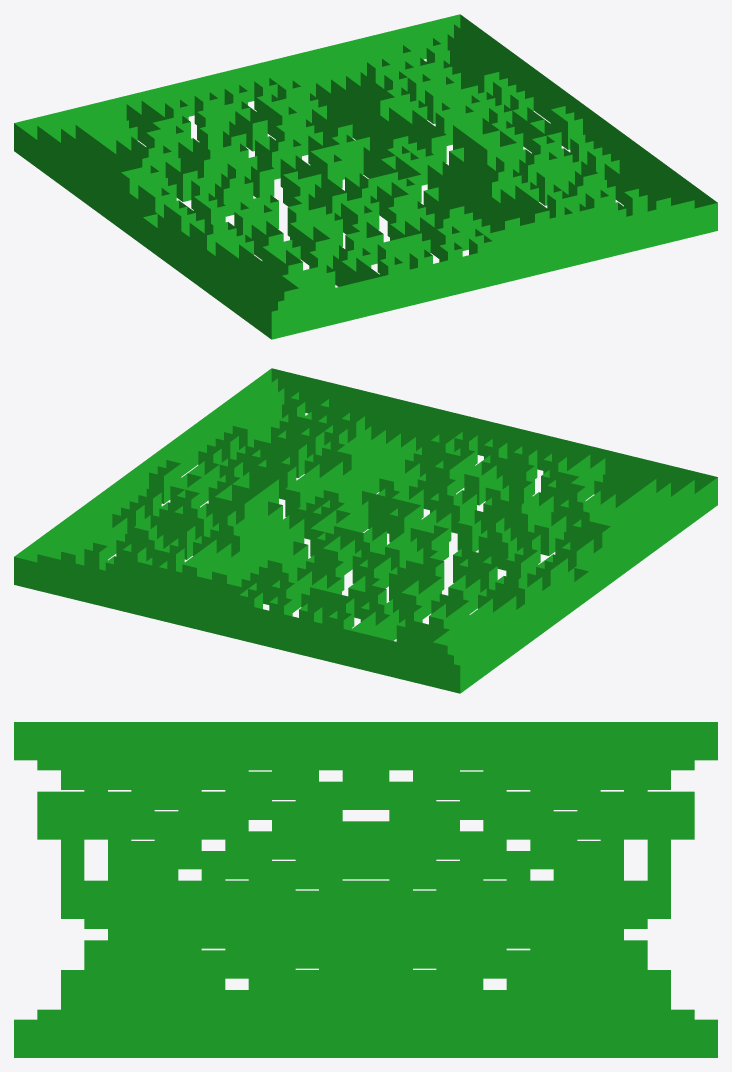
Rendered from Walls.fbx.
3 views of the same model, one above another, from view 1: azimuth 30°, elevation 25°; view 2: azimuth 150°, elevation 25°; view 3: azimuth 270°, elevation 25° (orthographic). The views are drawn at different scales.
Parts seen in each view (by area): view 1: Walls; view 2: Walls; view 3: Walls.
Part boxes in pixels (x1,y1,x2,y2): Walls: (14,14,717,339); Walls: (14,368,717,693); Walls: (14,722,717,1057).
Bounding box in the file's own units: 500 × 30 × 500.
